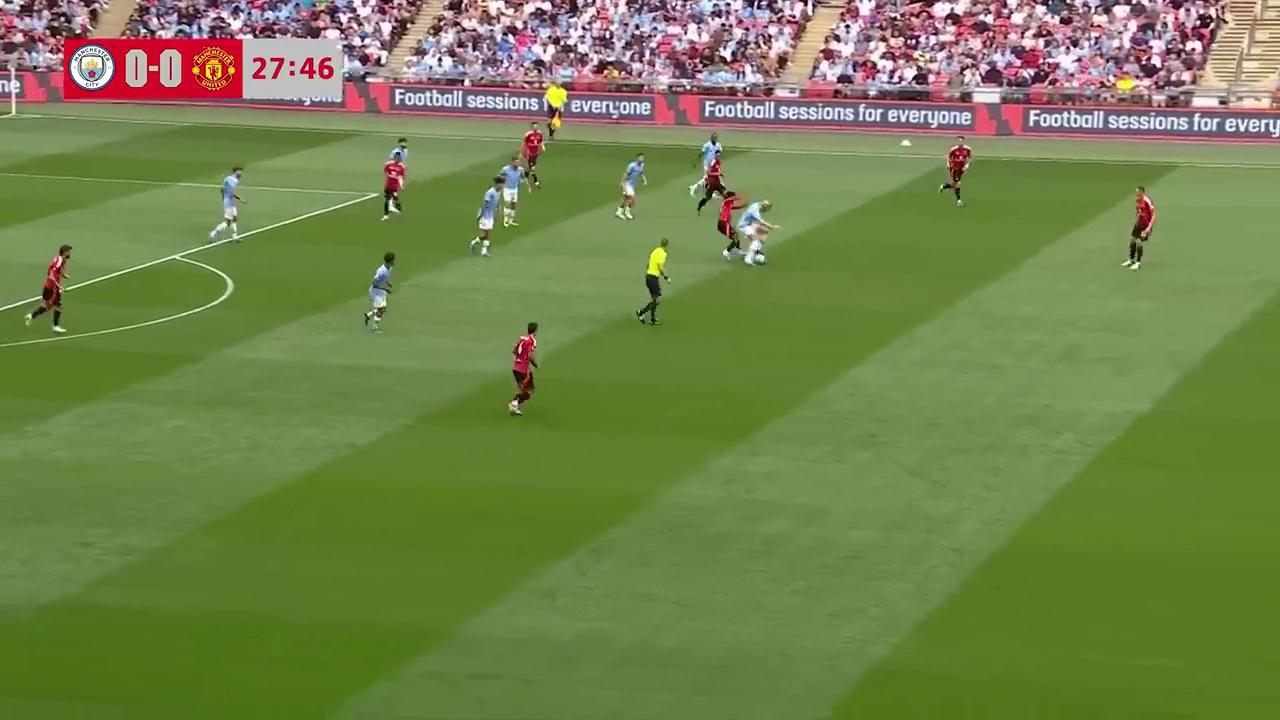ball: (756, 250, 769, 267)
player: (26, 244, 72, 332), (208, 166, 246, 243), (1122, 185, 1155, 270), (509, 322, 539, 415), (737, 197, 777, 266), (364, 252, 395, 332), (469, 180, 501, 257), (938, 138, 971, 207), (615, 153, 647, 221), (716, 191, 745, 262), (691, 157, 726, 215), (696, 133, 727, 197), (381, 145, 406, 220), (496, 156, 522, 227), (517, 124, 544, 189), (391, 137, 411, 180)
referee: (636, 238, 671, 325), (545, 90, 565, 140)
